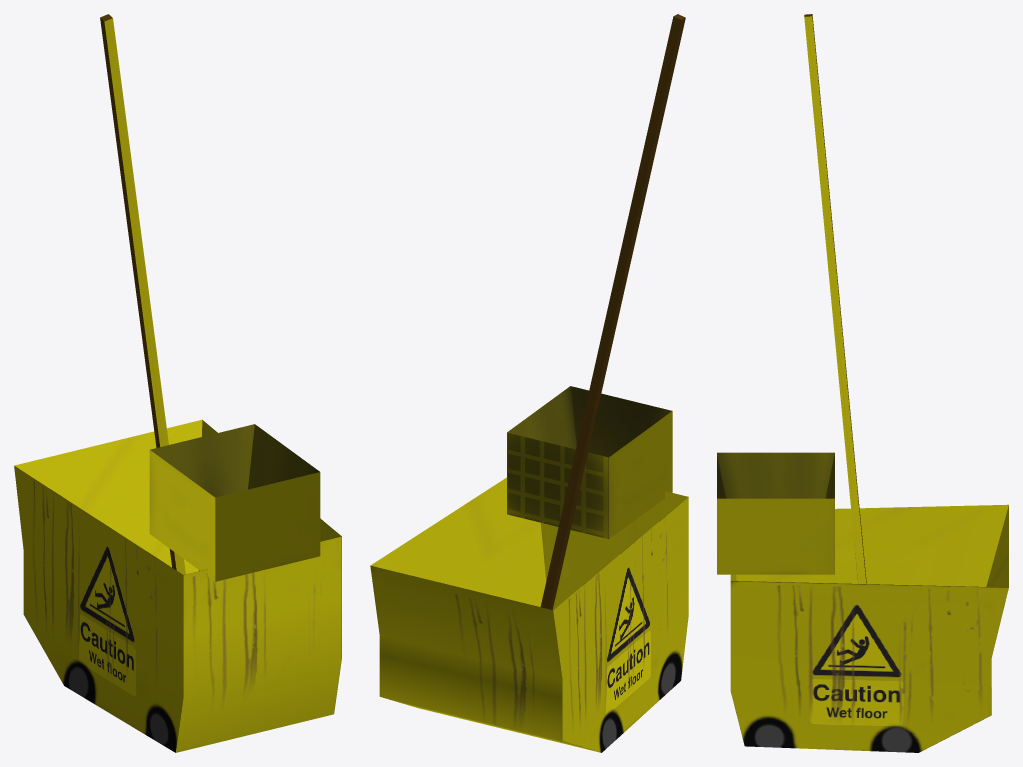
Rendered from trapero.FBX.
3 views of the same model, side by side, from view 1: azimuth 30°, elevation 25°; view 2: azimuth 150°, elevation 25°; view 3: azimuth 270°, elevation 25° (orthographic). The views are drawn at different scales.
Parts seen in each view (by area): view 1: Box045, Plane015, Box046; view 2: Box045, Plane015, Box046; view 3: Box045, Plane015, Box046.
Part boxes in pixels (x1=…): Box045: x1=14, y1=419, x2=341, y2=752; Plane015: x1=149, y1=424, x2=320, y2=581; Box046: x1=100, y1=14, x2=185, y2=574; Box045: x1=370, y1=477, x2=688, y2=752; Plane015: x1=507, y1=386, x2=672, y2=539; Box046: x1=540, y1=14, x2=685, y2=609; Box045: x1=730, y1=504, x2=1008, y2=752; Plane015: x1=717, y1=452, x2=834, y2=574; Box046: x1=804, y1=14, x2=866, y2=584.
Bounding box in the file's own units: 9.65 × 31.41 × 12.82.
